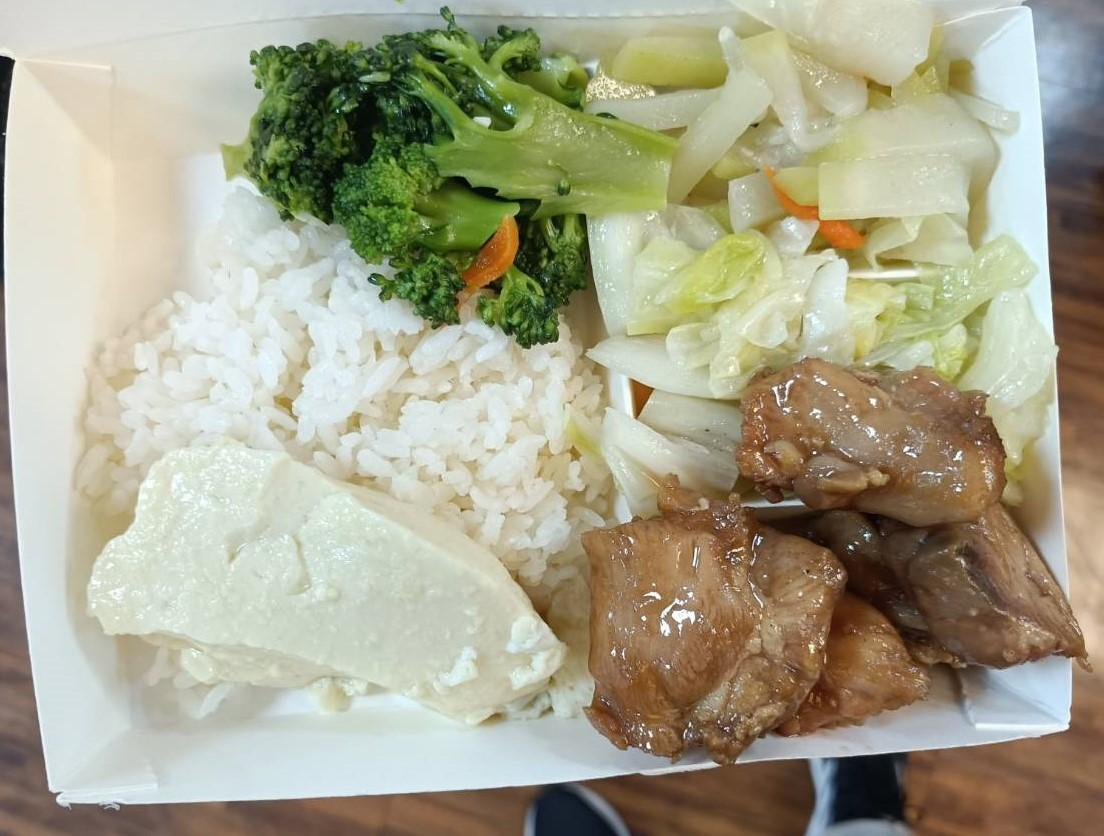big grilled chicken leg: (0, 14, 1089, 817)
big herbal chicken leg: (78, 198, 583, 591)
braised fish fillet: (599, 4, 1046, 410), (68, 440, 563, 725), (226, 26, 671, 338)
braised pork: (577, 366, 1076, 753)
